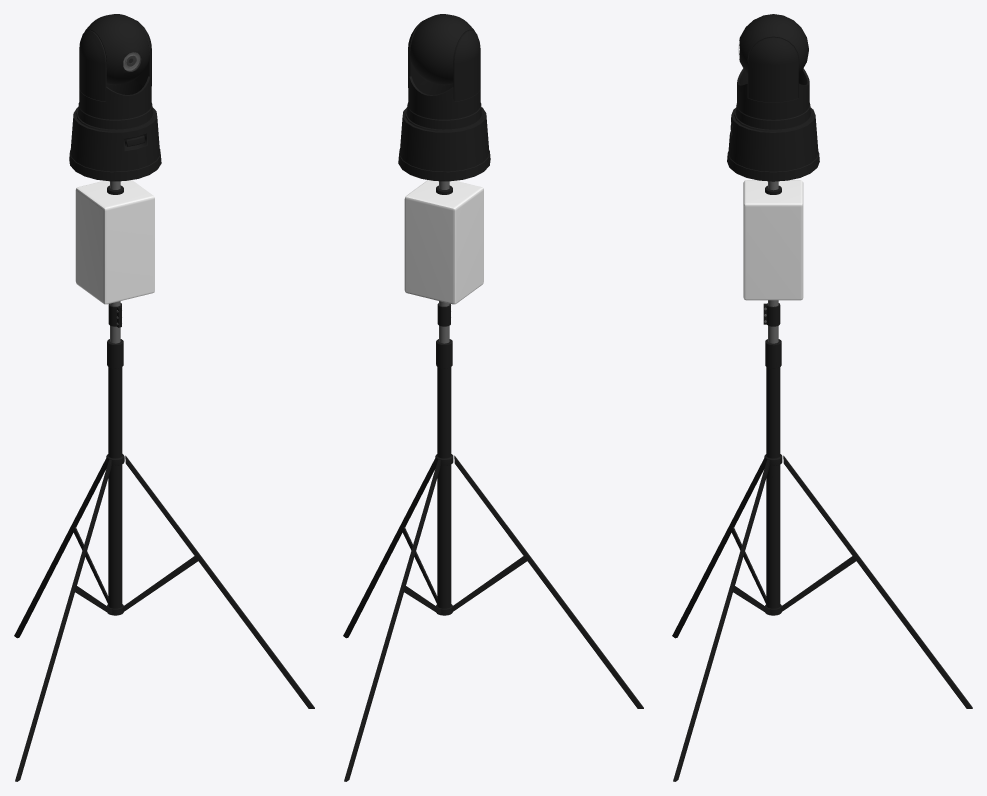
The model's file is camera.glb.
The picture shows the model from 3 angles, left to right: view 1: azimuth 30°, elevation 25°; view 2: azimuth 150°, elevation 25°; view 3: azimuth 270°, elevation 25°; orthographic projection.
Visible parts, largest first — view 1: pCube1, pCylinder1, pCylinder5, polySurface8, pSphere5, pCube4, pCube7, polySurface3, pCube2, pCube5; view 2: pCube1, pCylinder1, pCylinder5, polySurface8, pSphere5, pCube7, pCube2, polySurface3, pCube4, pCube6; view 3: pCube1, pCylinder1, pCylinder5, polySurface10, pSphere5, polySurface8, pCube2, pCube4, pCube7, pCube3.
Boxes of the visible parts, box(x1,y1,x2,y2) form: pCube1: box(75, 180, 154, 304); pCylinder1: box(69, 107, 161, 181); pCylinder5: box(106, 339, 124, 615); polySurface8: box(84, 14, 149, 85); pSphere5: box(78, 76, 152, 129); pCube4: box(125, 455, 314, 708); pCube7: box(15, 459, 111, 781); polySurface3: box(79, 30, 106, 101); pCube2: box(14, 458, 107, 638); pCube5: box(124, 556, 197, 611); pCube1: box(404, 180, 483, 304); pCylinder1: box(398, 107, 490, 181); pCylinder5: box(435, 339, 453, 615); polySurface8: box(410, 14, 474, 85); pSphere5: box(407, 76, 481, 129); pCube7: box(454, 455, 643, 708); pCube2: box(344, 459, 440, 781); polySurface3: box(453, 30, 480, 101); pCube4: box(343, 458, 436, 638); pCube6: box(453, 556, 526, 611); pCube1: box(743, 180, 803, 300); pCylinder1: box(727, 107, 819, 181); pCylinder5: box(764, 339, 782, 615); polySurface10: box(748, 37, 798, 102); pSphere5: box(736, 68, 810, 129); polySurface8: box(739, 14, 808, 73); pCube2: box(783, 455, 972, 708); pCube4: box(673, 459, 769, 781); pCube7: box(672, 458, 765, 638); pCube3: box(782, 556, 855, 611).
Size of the model in its own units: 0.9699 by 2.14 by 0.8415.
3 materials, 1 textured.
